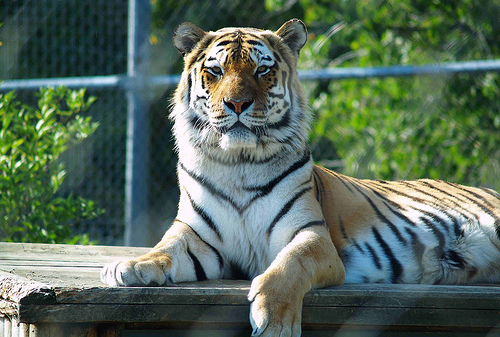Tigre: (139, 12, 448, 292)
